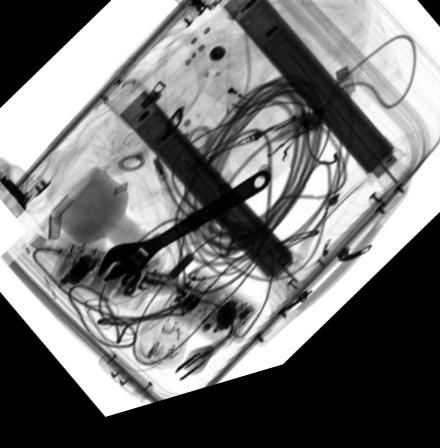Wrench: (96, 186, 271, 288)
